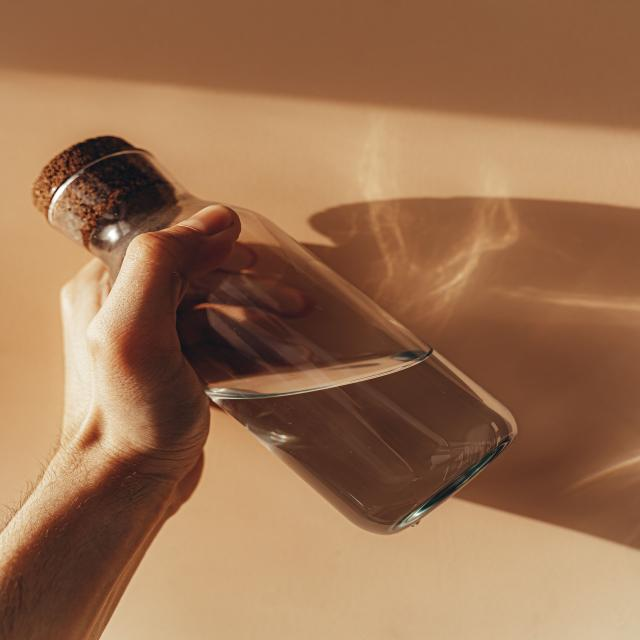Bottle: (177, 207, 515, 533)
